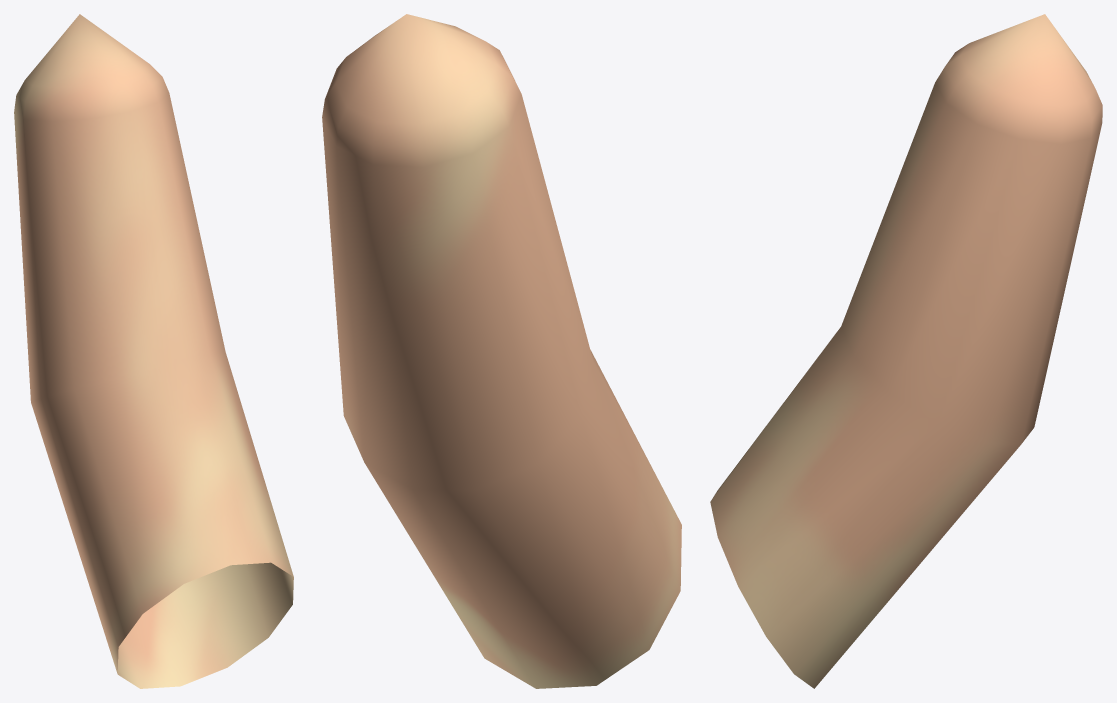
Rendered from ToitVacheCorne.fbx.
3 views of the same model, side by side, from view 1: azimuth 30°, elevation 25°; view 2: azimuth 150°, elevation 25°; view 3: azimuth 270°, elevation 25° (orthographic). The views are drawn at different scales.
Parts seen in each view (by area): view 1: ToitVacheCorne; view 2: ToitVacheCorne; view 3: ToitVacheCorne.
Boxes of the visible parts, bbox=[...] form: ToitVacheCorne: bbox=[14, 14, 293, 688]; ToitVacheCorne: bbox=[322, 14, 681, 688]; ToitVacheCorne: bbox=[710, 14, 1102, 688].
Size of the model in its own units: 5.43 by 17.8 by 9.55.
